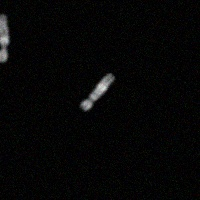chromosome: (81, 73, 114, 110), (0, 14, 10, 61)
